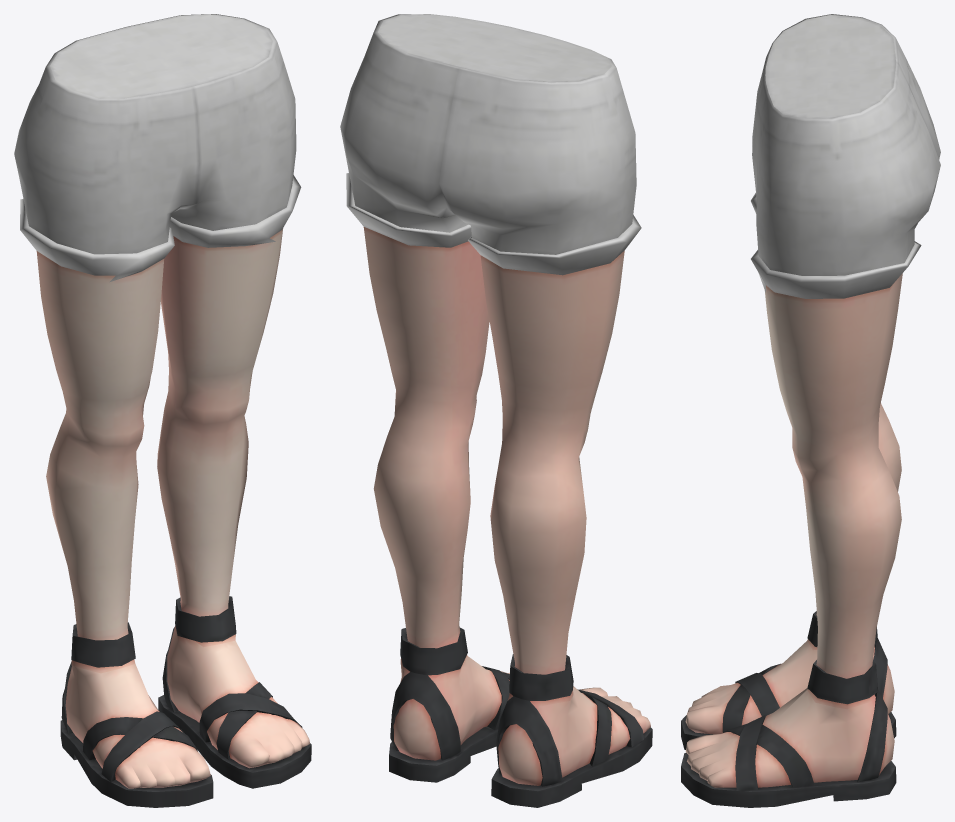
Rendered from tr0870_00_lwb01.gltf.
3 renders of one model, left to right at view 1: azimuth 30°, elevation 25°; view 2: azimuth 150°, elevation 25°; view 3: azimuth 270°, elevation 25°, orthographic. The views are drawn at different scales.
Visible parts, largest first — view 1: lwb01_skin_mesh_shape:lowerbody01_skin, lwb01_jeans_mesh_shape:lowerbody01, lwb01_sandals_mesh_shape:lowerbody01; view 2: lwb01_skin_mesh_shape:lowerbody01_skin, lwb01_jeans_mesh_shape:lowerbody01, lwb01_sandals_mesh_shape:lowerbody01; view 3: lwb01_skin_mesh_shape:lowerbody01_skin, lwb01_jeans_mesh_shape:lowerbody01, lwb01_sandals_mesh_shape:lowerbody01.
Part boxes in pixels (x1=…): lwb01_skin_mesh_shape:lowerbody01_skin: x1=36, y1=228, x2=310, y2=788; lwb01_jeans_mesh_shape:lowerbody01: x1=14, y1=14, x2=301, y2=282; lwb01_sandals_mesh_shape:lowerbody01: x1=60, y1=596, x2=311, y2=807; lwb01_skin_mesh_shape:lowerbody01_skin: x1=363, y1=227, x2=650, y2=785; lwb01_jeans_mesh_shape:lowerbody01: x1=340, y1=14, x2=641, y2=275; lwb01_sandals_mesh_shape:lowerbody01: x1=389, y1=627, x2=652, y2=807; lwb01_skin_mesh_shape:lowerbody01_skin: x1=685, y1=273, x2=902, y2=787; lwb01_jeans_mesh_shape:lowerbody01: x1=751, y1=14, x2=940, y2=298; lwb01_sandals_mesh_shape:lowerbody01: x1=681, y1=611, x2=896, y2=807.
Size of what is drawn, in the model's own units: 0.3914 by 0.9652 by 0.3263.
Materials: 2 (2 with a texture image).
